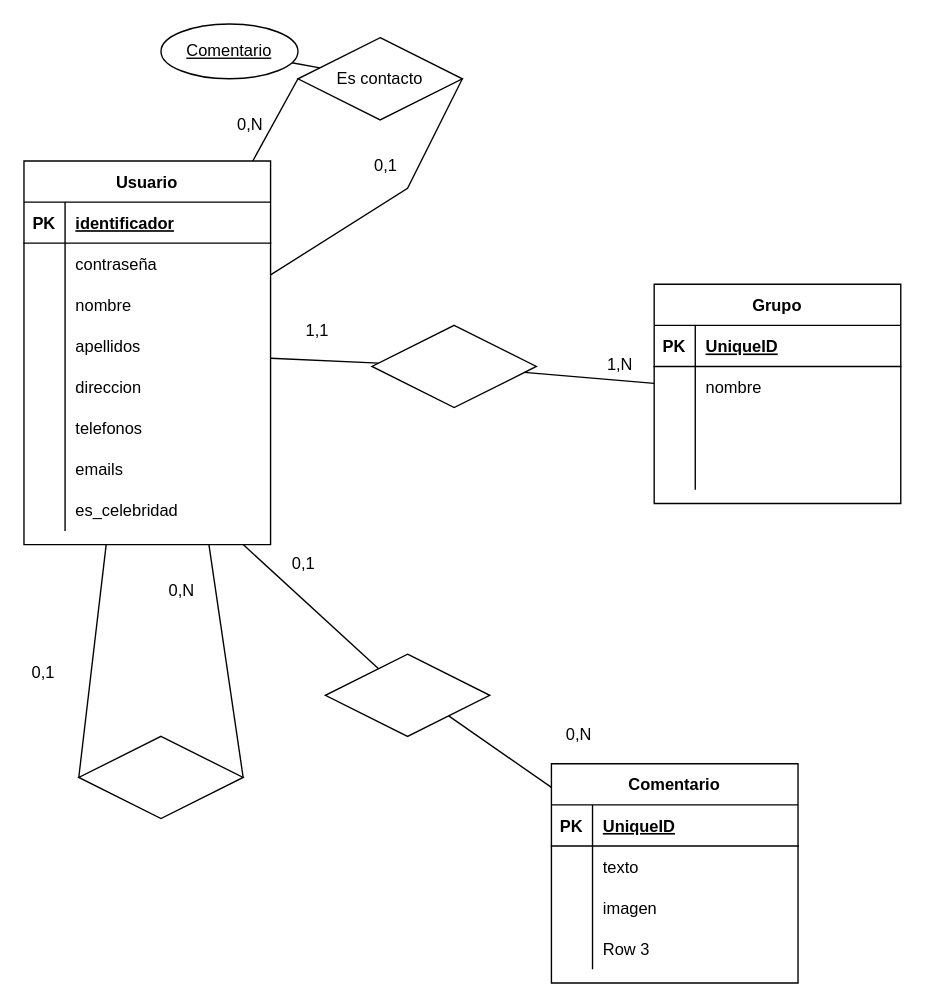
The diagram is 925 pixels wide and 1007 high, and some of its shapes have lost their labels. Each missing label, with the centre of its shape:
"Bloquea" goes at point (160, 777).
"Organiza" goes at point (453, 366).
"Publica" goes at point (407, 694).
